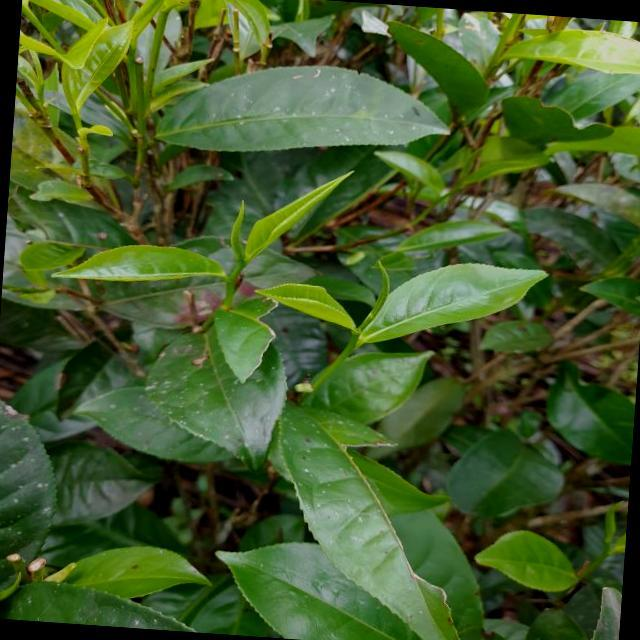Stem: (230, 264, 243, 276), (350, 334, 360, 341)
